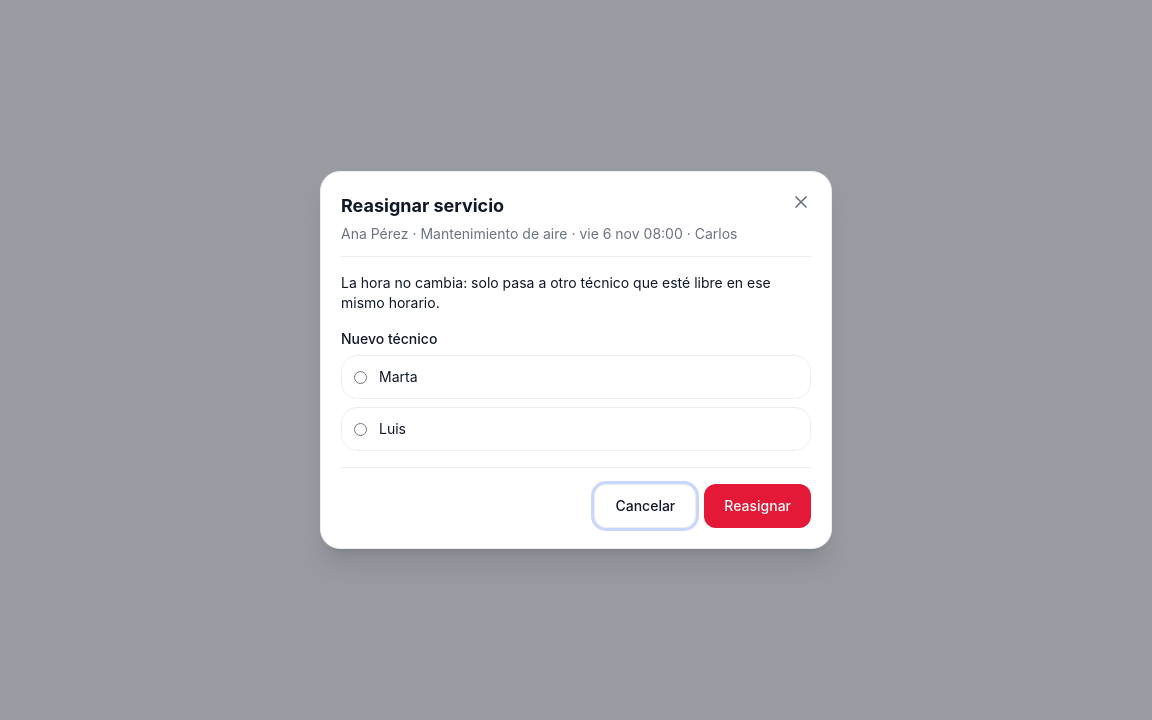
Scenario: ReassignDialog › conserva la selección tras "Cupo ocupado" si el técnico sigue libre
Click the radio button labelled "Luis" at (360, 429), box x1=354 y1=422 x2=367 y2=436
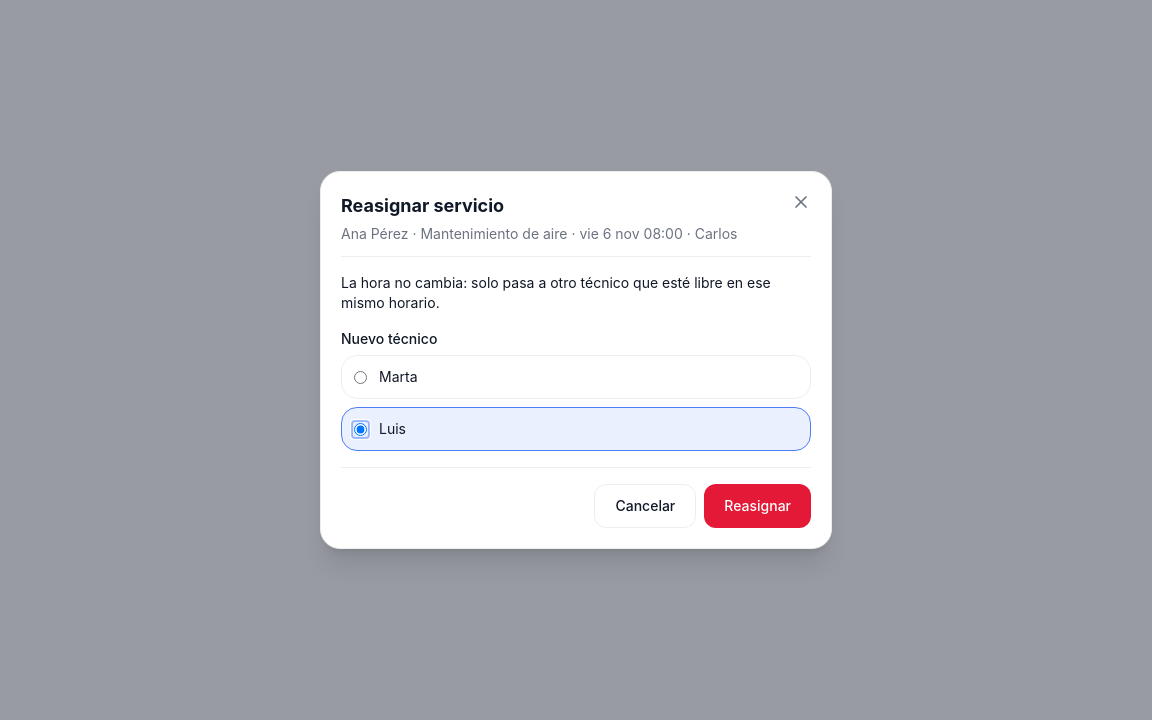
Click the button "Reasignar" at (758, 506), box x1=704 y1=484 x2=811 y2=528
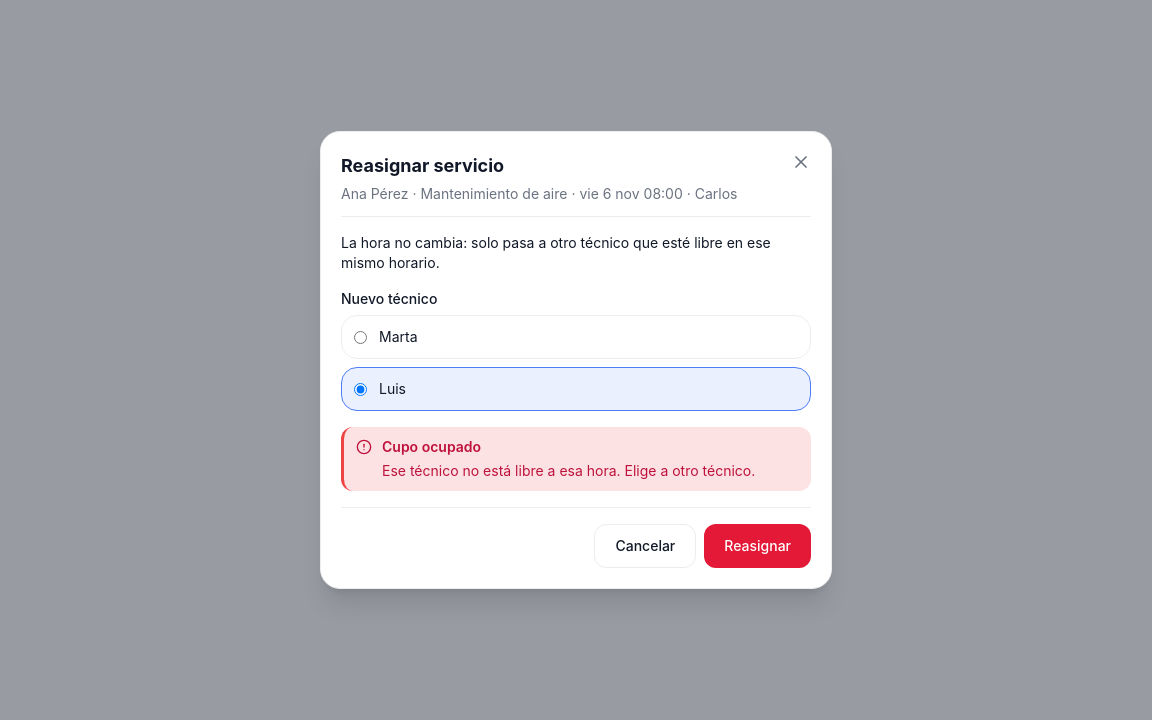
Expected: the radio button labelled "Luis" is checked, x1=354 y1=382 x2=367 y2=396
Expected: the message "Cupo ocupado Ese técnico no está libre a esa hora. Elige a otro técnico." is shown, x1=341 y1=427 x2=811 y2=491
